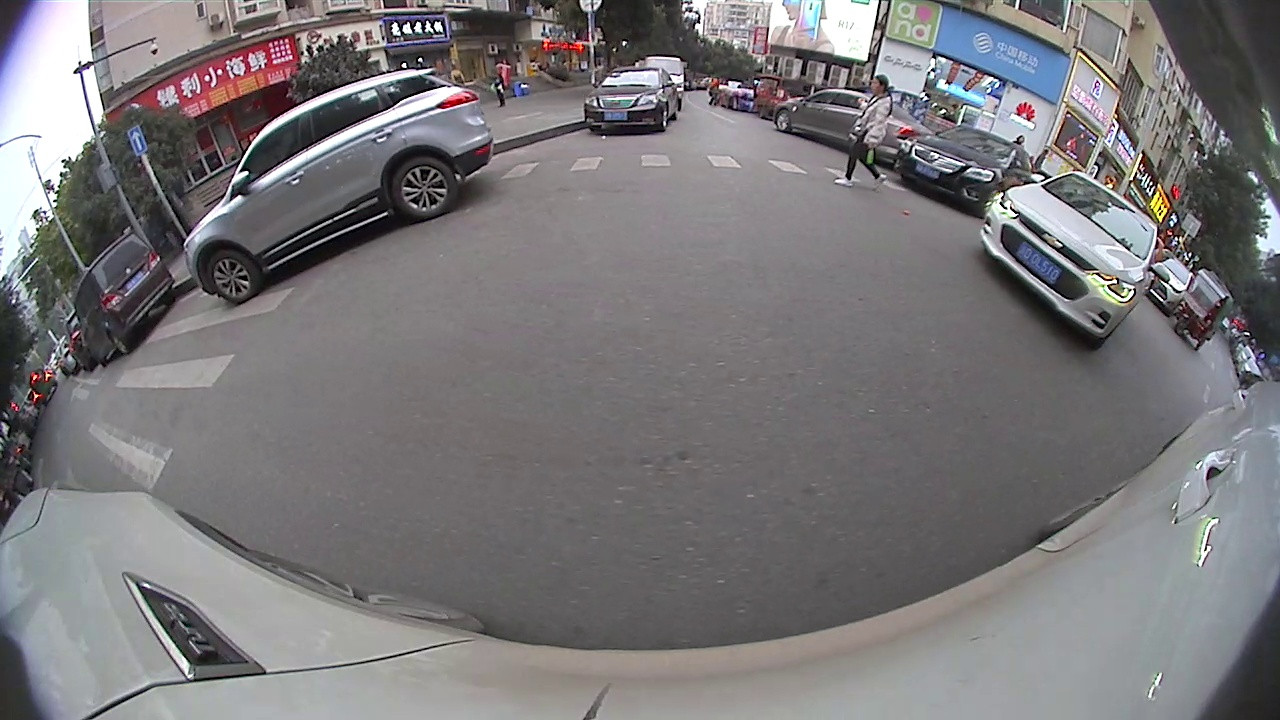car: (177, 63, 498, 308), (978, 165, 1173, 355), (66, 227, 179, 369), (892, 122, 1037, 217), (772, 84, 933, 165), (579, 63, 682, 136)
front: (199, 253, 272, 302)
person: (865, 70, 896, 183)
rear: (392, 157, 458, 216), (103, 332, 135, 356)
rider: (1168, 263, 1236, 351)
